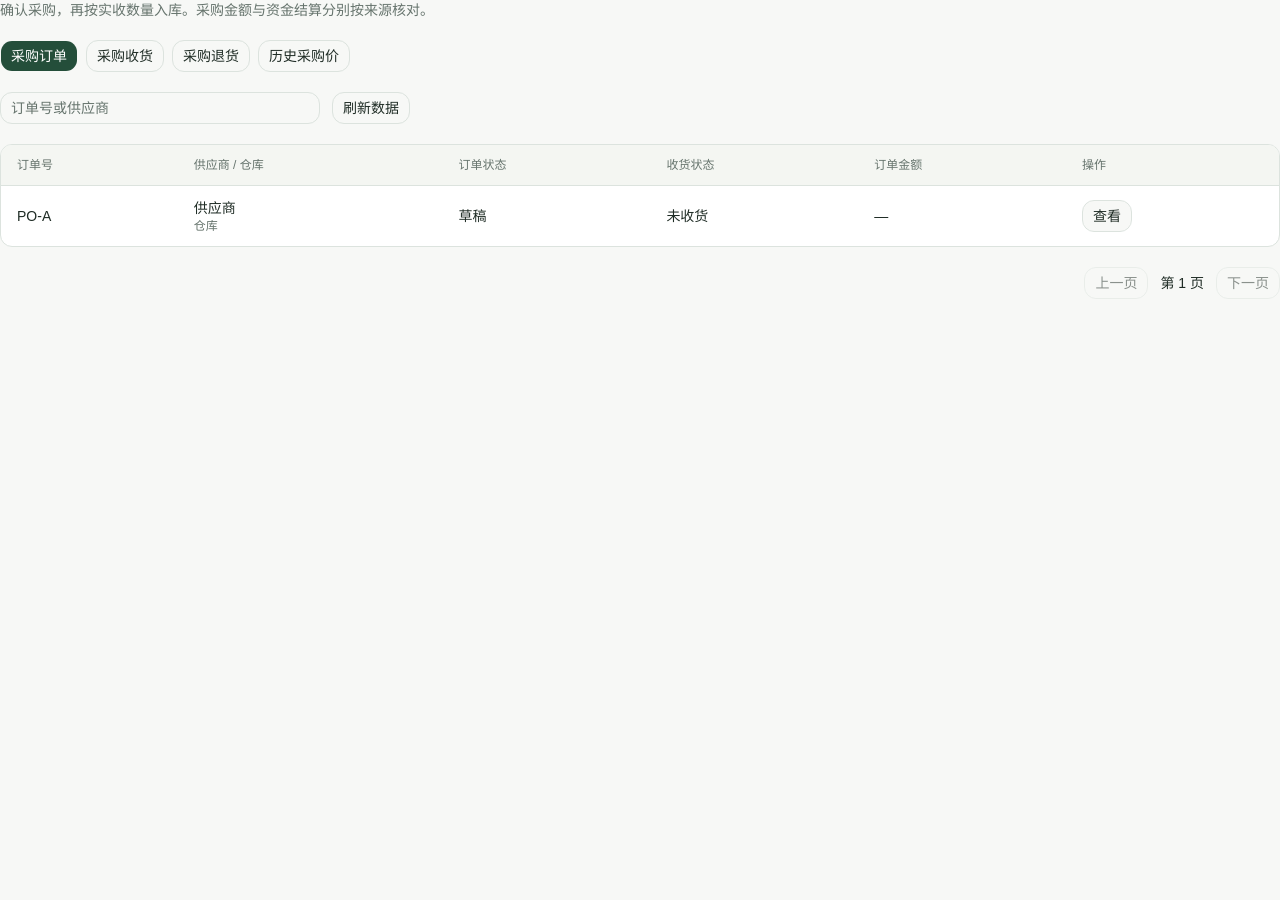
network failure freezes the original key and body until retry
Step 1. Click the button "查看" → (1107, 216), box [1082,200,1132,232]
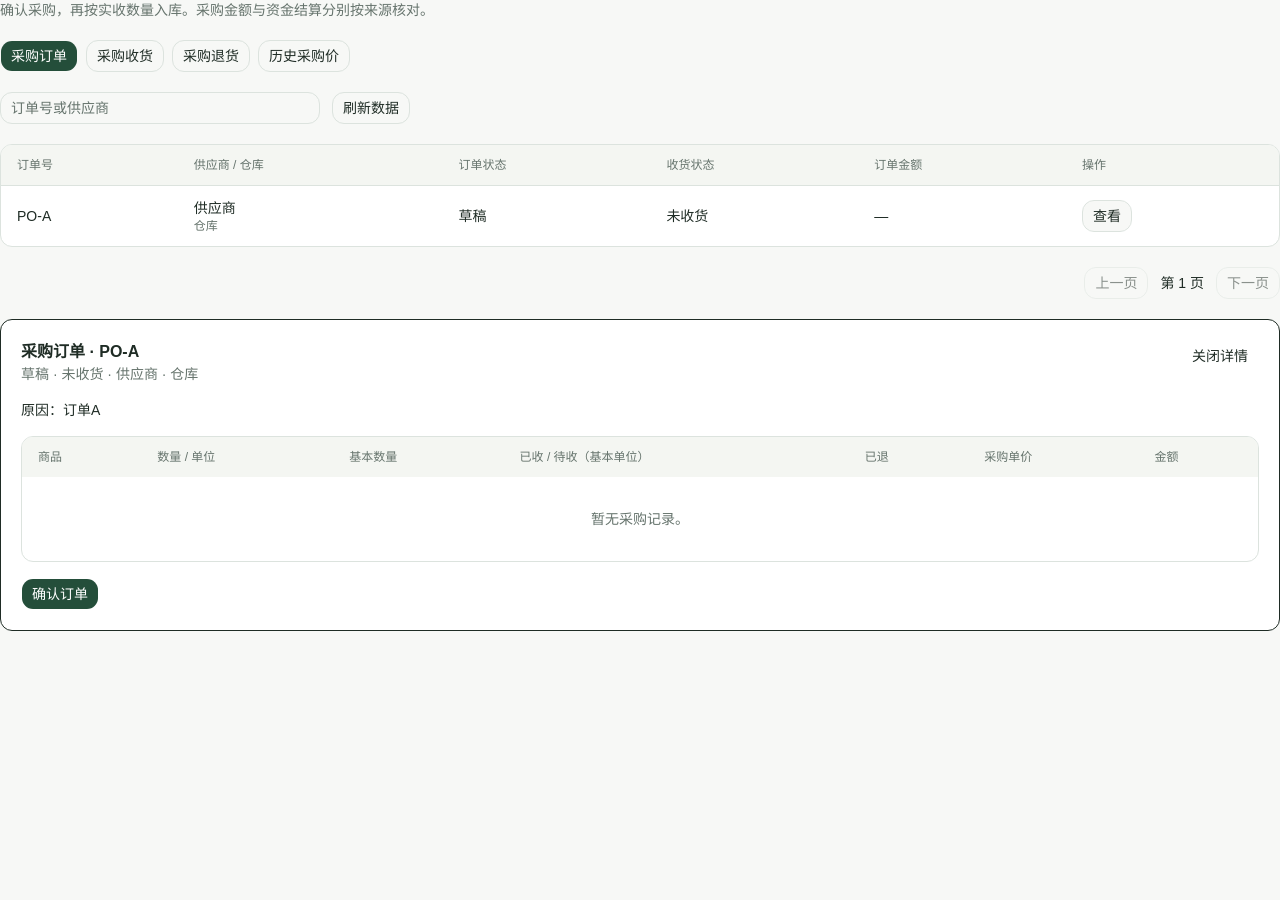
Step 2. Click the button "确认订单" → (60, 594), box [21,578,99,610]
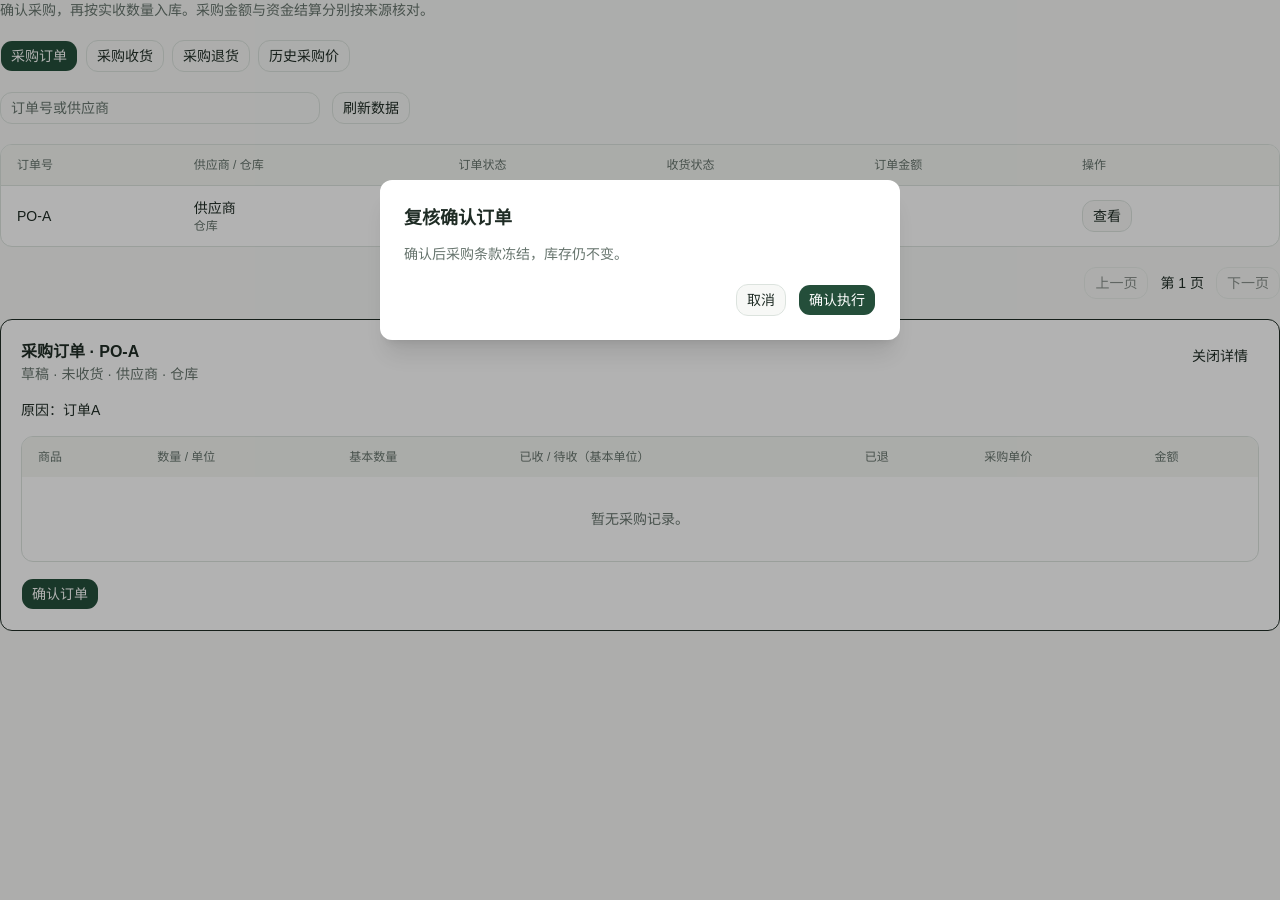
Step 3. Click the button "确认执行" → (837, 300), box [798,284,876,316]
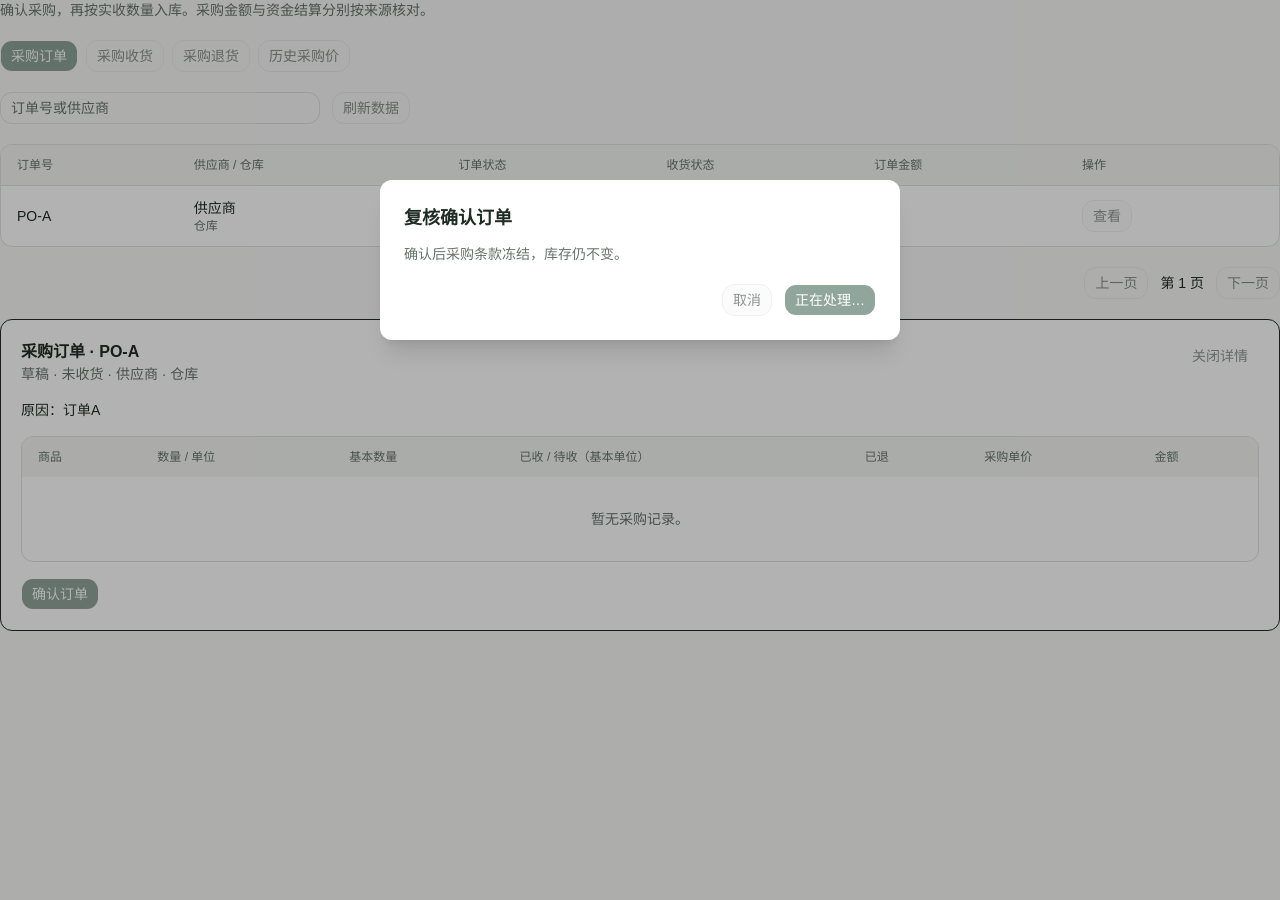
Step 4. Click the button named "确认执行" → (830, 300), box [784,284,876,316]
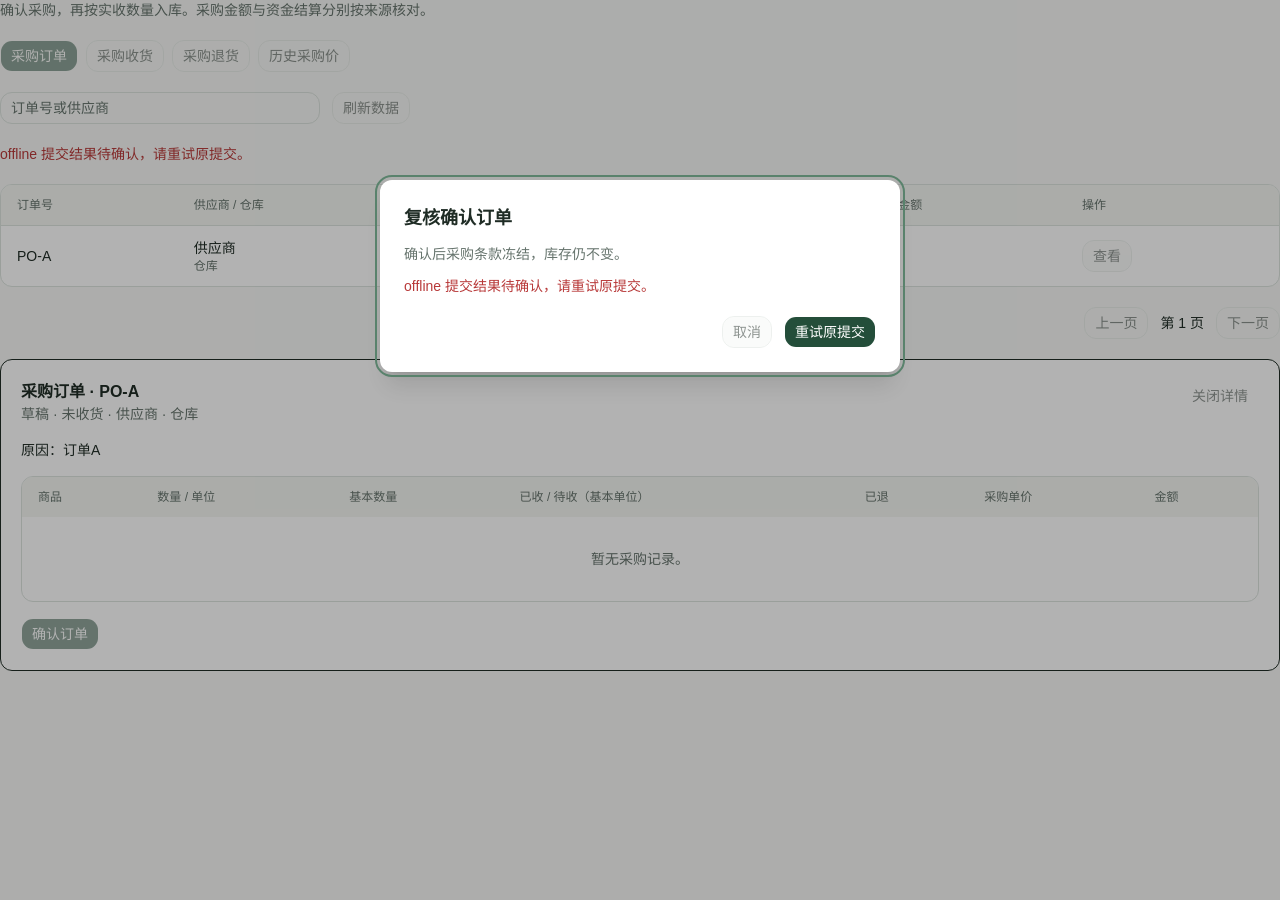
Now the text "offline 提交结果待确认，请重试原提交。" is shown, box [404,278,655,294]
Step 5. Click the button "重试原提交" → (830, 332), box [784,316,876,348]
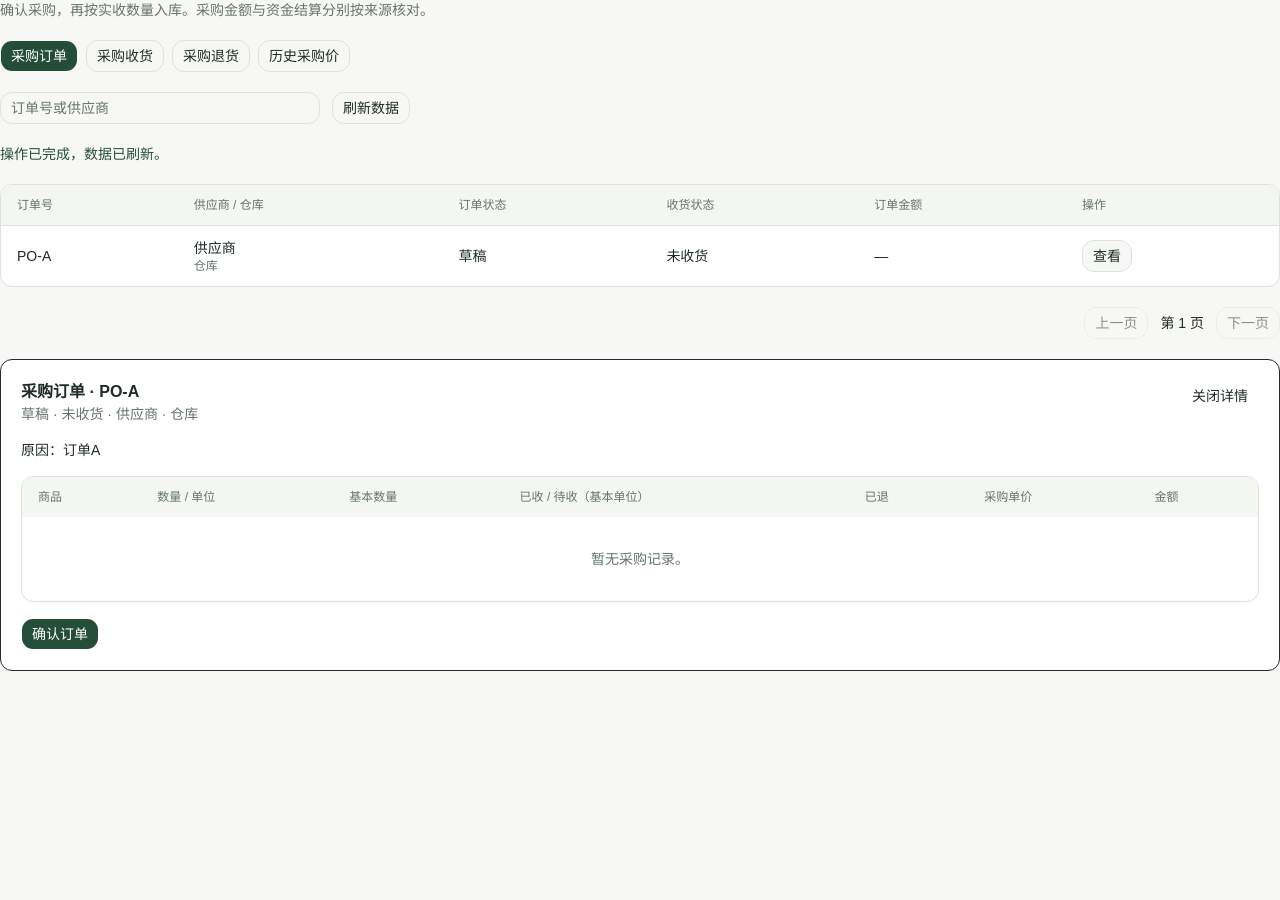
Now the dialog is gone
